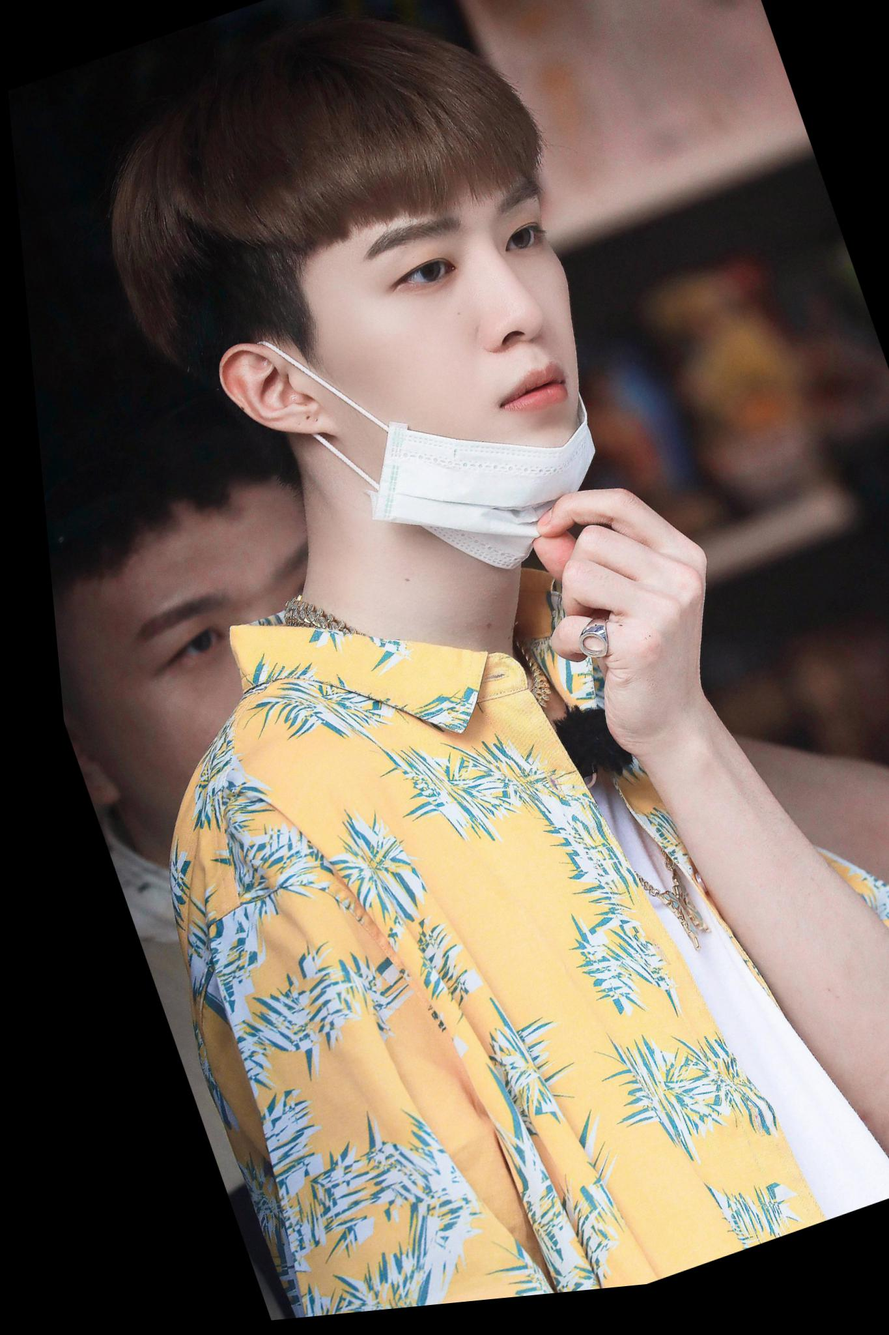NONE: (78, 493, 427, 871)
WRONG: (259, 129, 635, 574)
